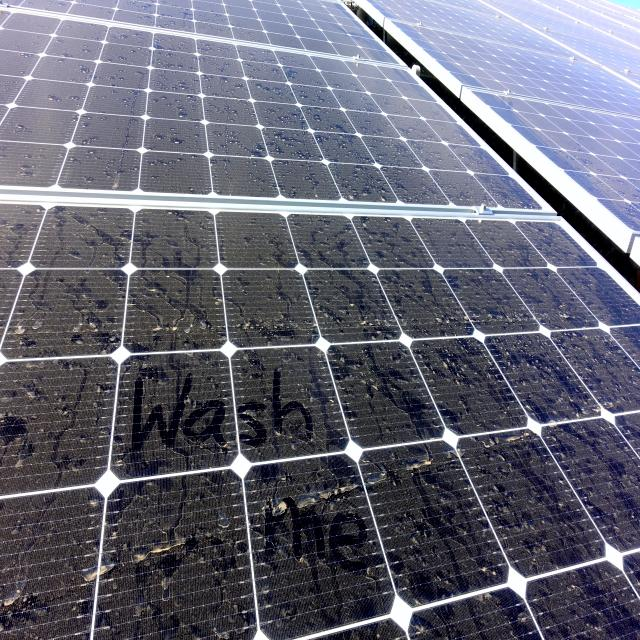dust: (379, 371, 553, 583), (124, 210, 286, 335), (121, 474, 246, 630), (327, 226, 500, 338), (255, 470, 365, 635), (36, 71, 225, 162), (136, 371, 331, 448), (256, 79, 382, 164), (5, 364, 93, 473)
